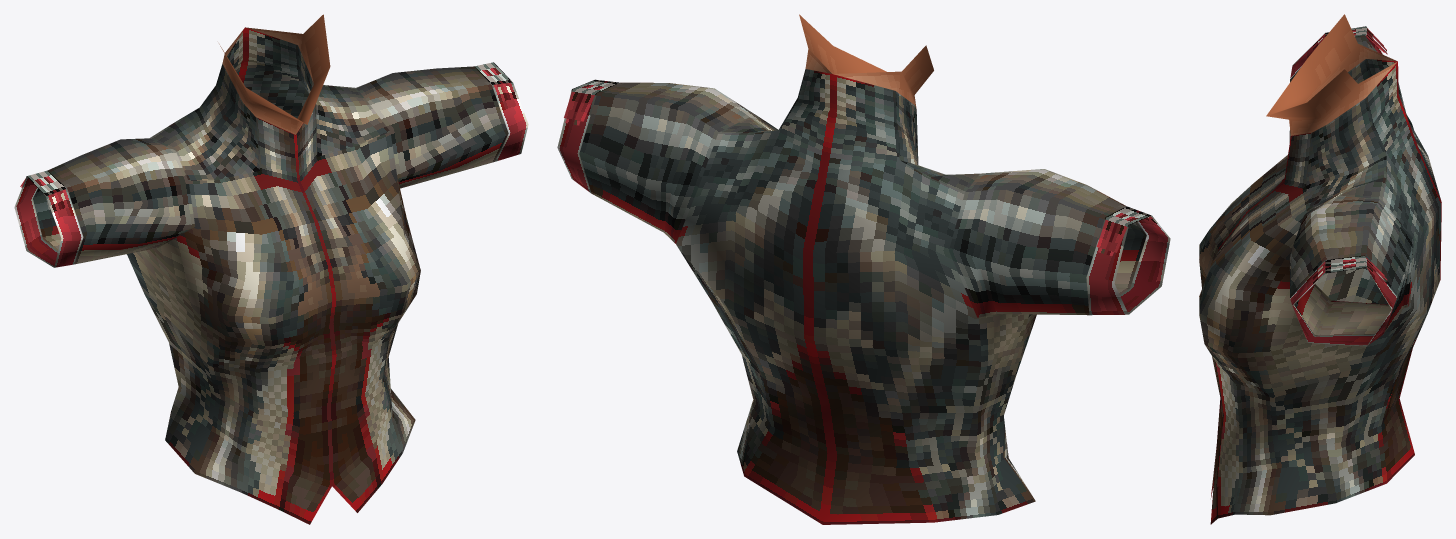
Rendered from f_body030.glb.
3 views of the same model, side by side, from view 1: azimuth 30°, elevation 25°; view 2: azimuth 150°, elevation 25°; view 3: azimuth 270°, elevation 25° (orthographic). The views are drawn at different scales.
Size of the model in its own units: 62.64 by 57.11 by 26.66.
2 materials, 2 textured.
